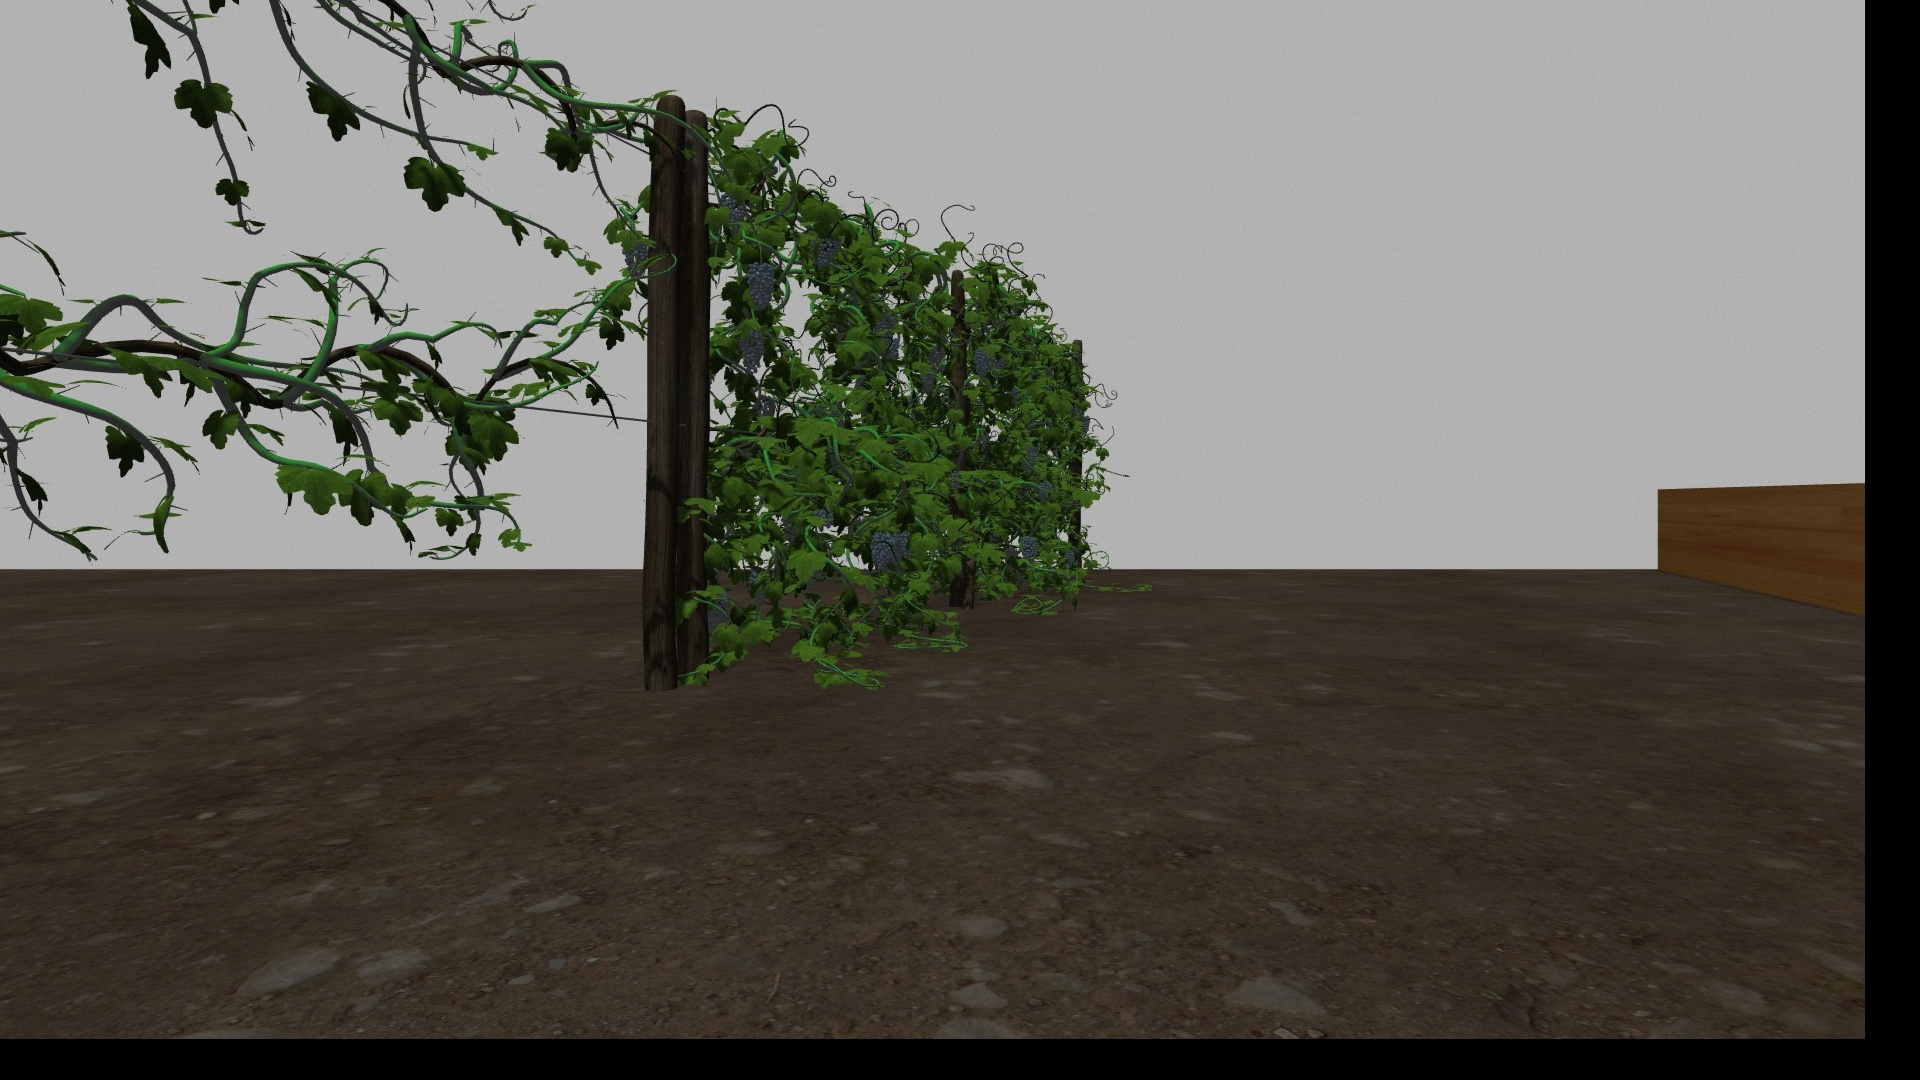grape: (736, 324, 767, 373), (746, 262, 774, 309), (808, 236, 841, 272), (621, 237, 649, 280), (719, 194, 746, 235), (707, 591, 733, 628), (870, 531, 891, 568), (889, 530, 911, 559), (876, 313, 895, 339), (973, 348, 990, 377), (1019, 444, 1038, 471), (1021, 535, 1039, 559), (882, 339, 899, 363), (920, 369, 938, 392), (1036, 480, 1052, 502), (928, 345, 945, 365), (1063, 550, 1077, 564), (1081, 414, 1092, 433)
